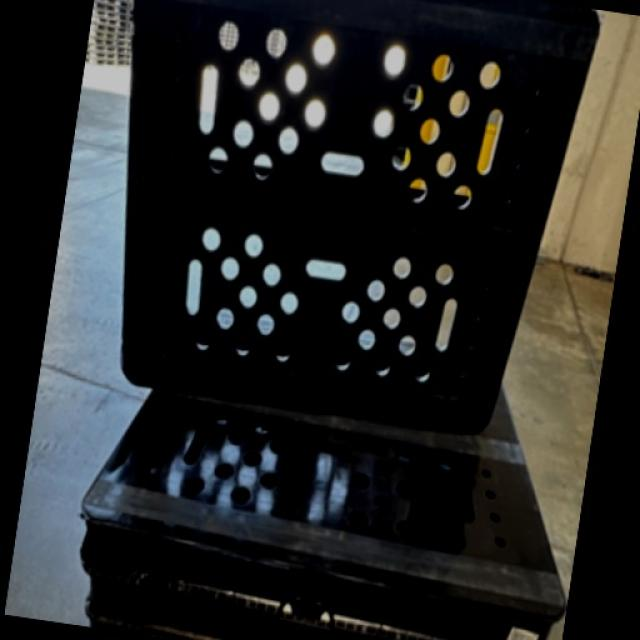igps: (101, 0, 605, 439), (70, 380, 572, 640)
